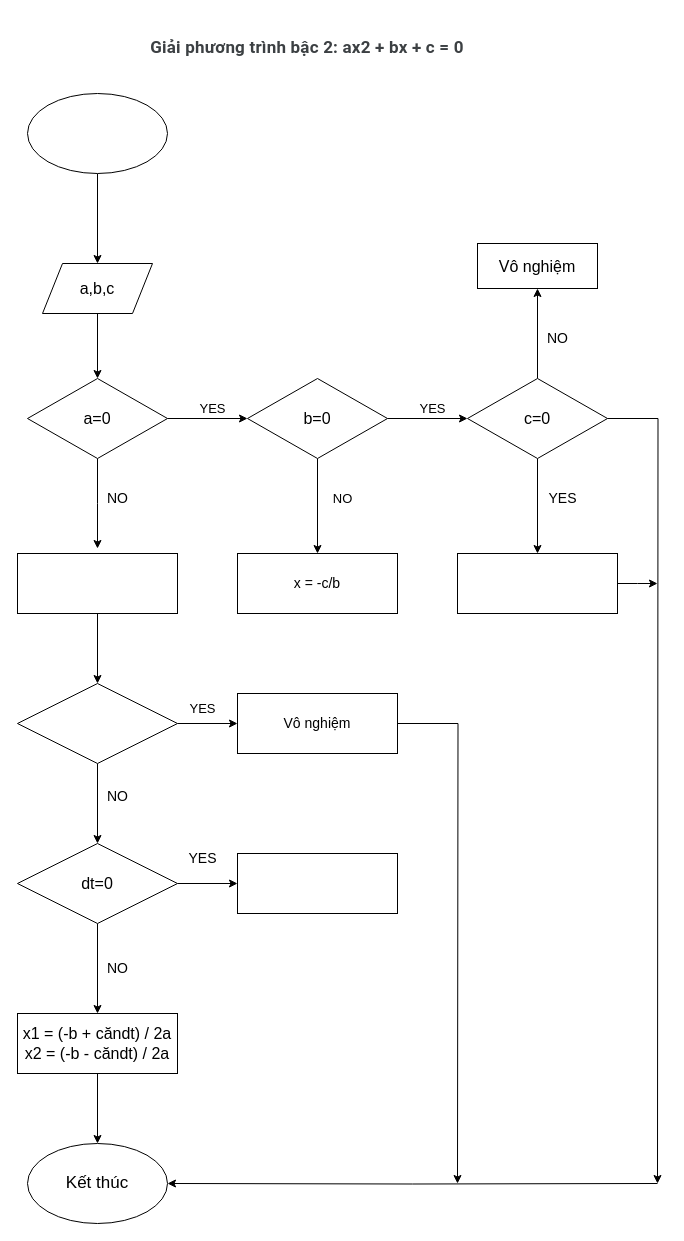
This 684x1241 diagram has some shape labels left out. The shapes that lost their labels are listed below. From the top down, each one's centre as x and y in pixels, then its label:
At [97,133]: "Bắt đầu".
At [97,583]: "dt=b^2-4ac".
At [537,583]: "Vô số nghiệm".
At [97,723]: "dt<0".
At [317,883]: "x = -b/2a".
